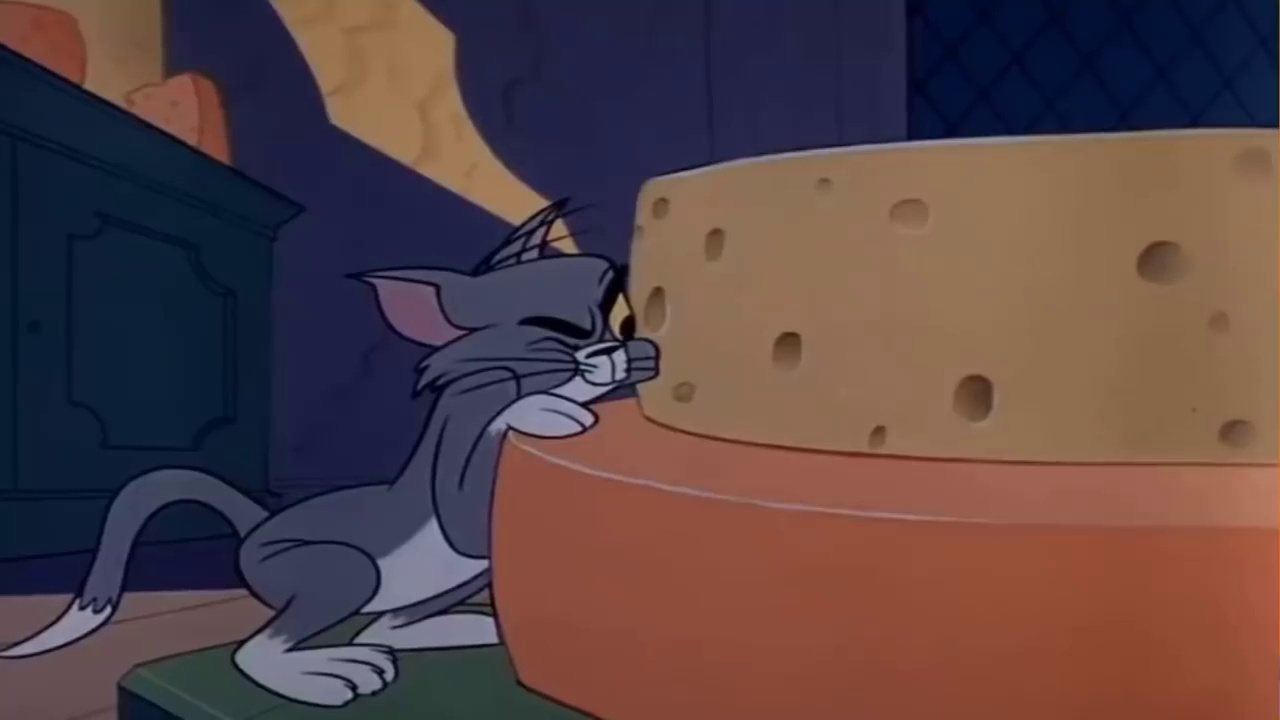face: (517, 263, 650, 407)
